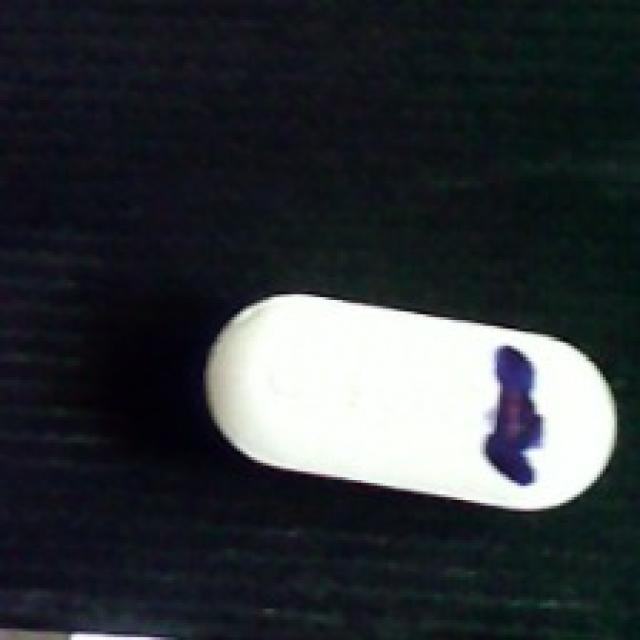defected: (197, 291, 626, 511)
